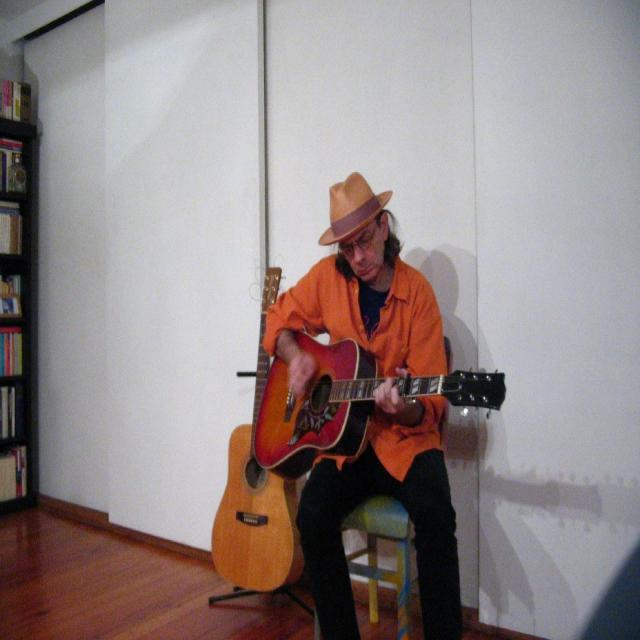guitar: (253, 328, 508, 480), (210, 266, 303, 596)
